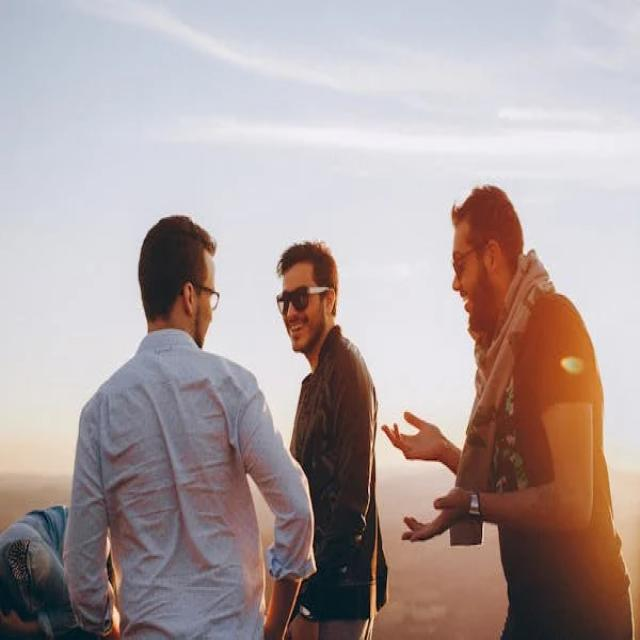Real human 2: (55, 182, 634, 640)
